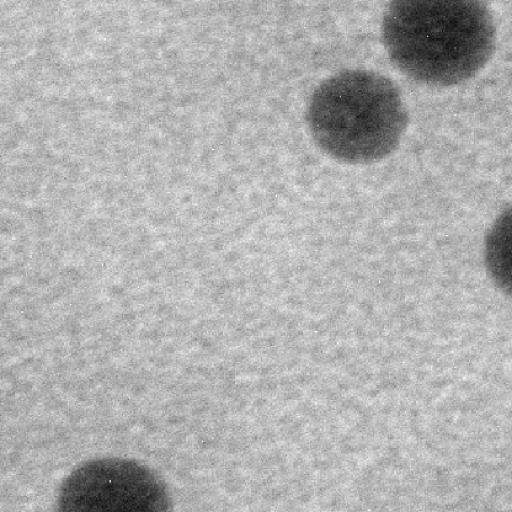Nanoparticles: (305, 65, 412, 165), (381, 0, 495, 83), (56, 455, 170, 511), (486, 197, 512, 292)
